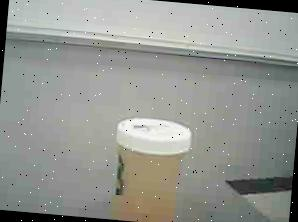Bottle B: (109, 114, 193, 222)
